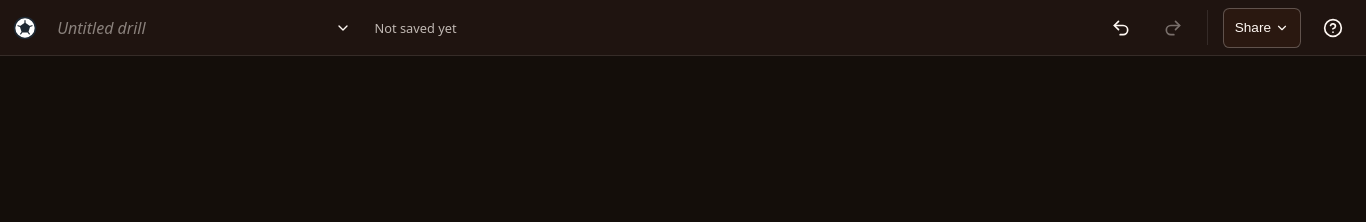
Test: the Share menu › carries the three exports
This screenshot has width=1366, height=222.
Click the button "Share".
click(1262, 28)  # box [1222,8,1301,48]
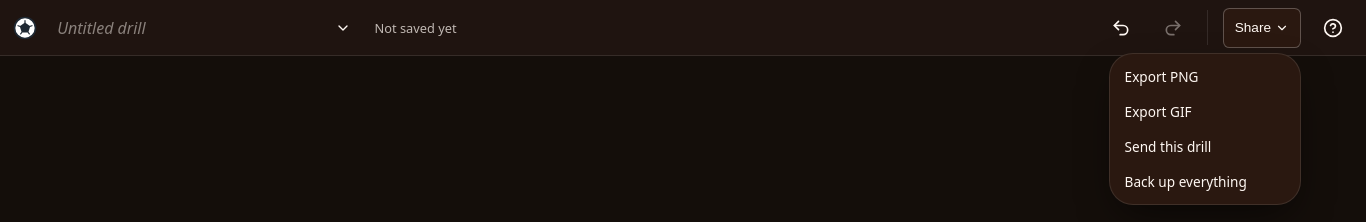
Check: the menu item "Export PNG" is shown, box [1115,59,1295,94]
Check: the menu item "Export GIF" is shown, box [1115,94,1295,129]
Check: the menu item "Send this drill" is shown, box [1115,129,1295,164]
